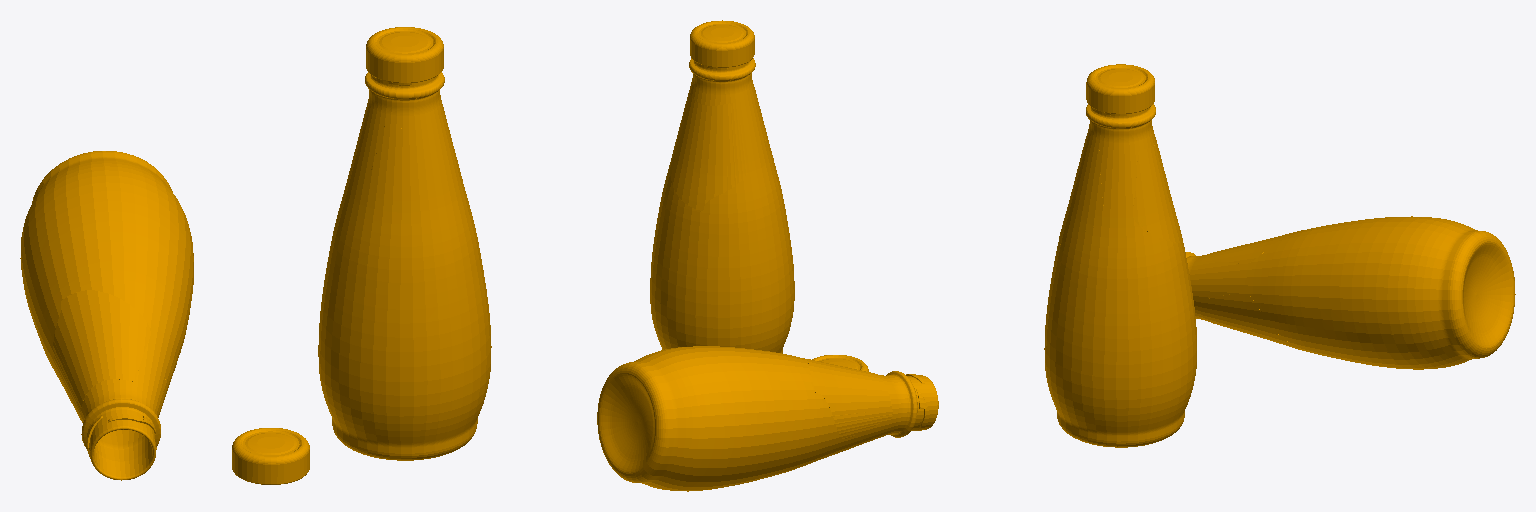
robot.urdf — bottles:
<robot name="bottles">
  <link name="bottles">
    <inertial>
      <origin xyz="0 0 0.0145"/>
      <mass value="0.1" />
      <inertia  ixx="0.0001" ixy="0.0"  ixz="0.0"  iyy="0.0001"  iyz="0.0"  izz="0.0001" />
    </inertial>
    <visual>
      <origin xyz="0 0 0.0145"/>
      <geometry>        
     <mesh filename="bottles.dae" scale="1 1 1"/>
    </geometry>
    </visual>
    <collision>
      <origin xyz="0 0 0.0145"/>
      <geometry>
        <box size="0.029 0.029 0.029"/>
      </geometry>
    </collision>
  </link>
  <gazebo reference="bottles">
    <material>Gazebo/Blue</material>
  </gazebo>
</robot>

--- Render facts (derived) ---
Views: 3 orthographic renders of the robot side by side, from view 1: azimuth 30°, elevation 25°; view 2: azimuth 150°, elevation 25°; view 3: azimuth 270°, elevation 25°.
Robot: bottles — 1 links, 0 joints (none); root link bottles; default pose: all joints at 0.
Visible links, largest first — view 1: bottles; view 2: bottles; view 3: bottles.
Boxes of the visible links, box(x1,y1,x2,y2) form: bottles: box(20, 27, 491, 484); bottles: box(597, 20, 938, 491); bottles: box(1044, 64, 1515, 447).
Size in the robot's own frame: 0.1964 by 0.251 by 0.2049 metres.
1 mesh visuals loaded from 1 distinct referenced files (1 Collada DAE).